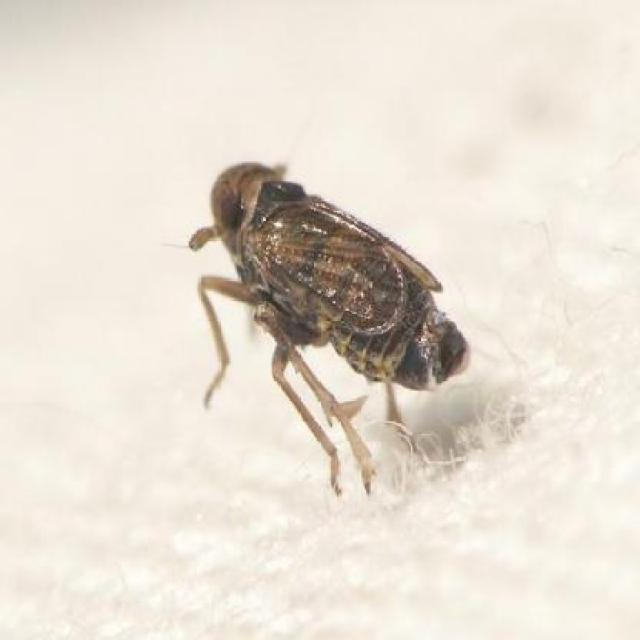brown-planthopper: (178, 157, 474, 391)
